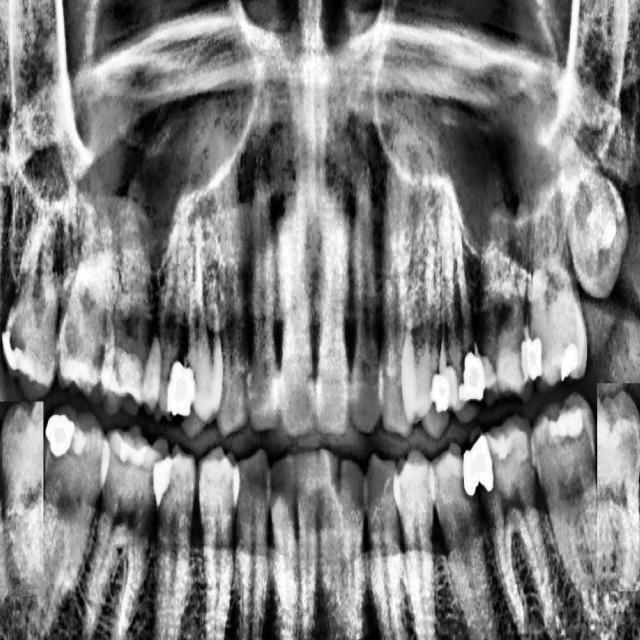Impacted Tooth: (597, 383, 640, 591), (0, 402, 43, 596)
